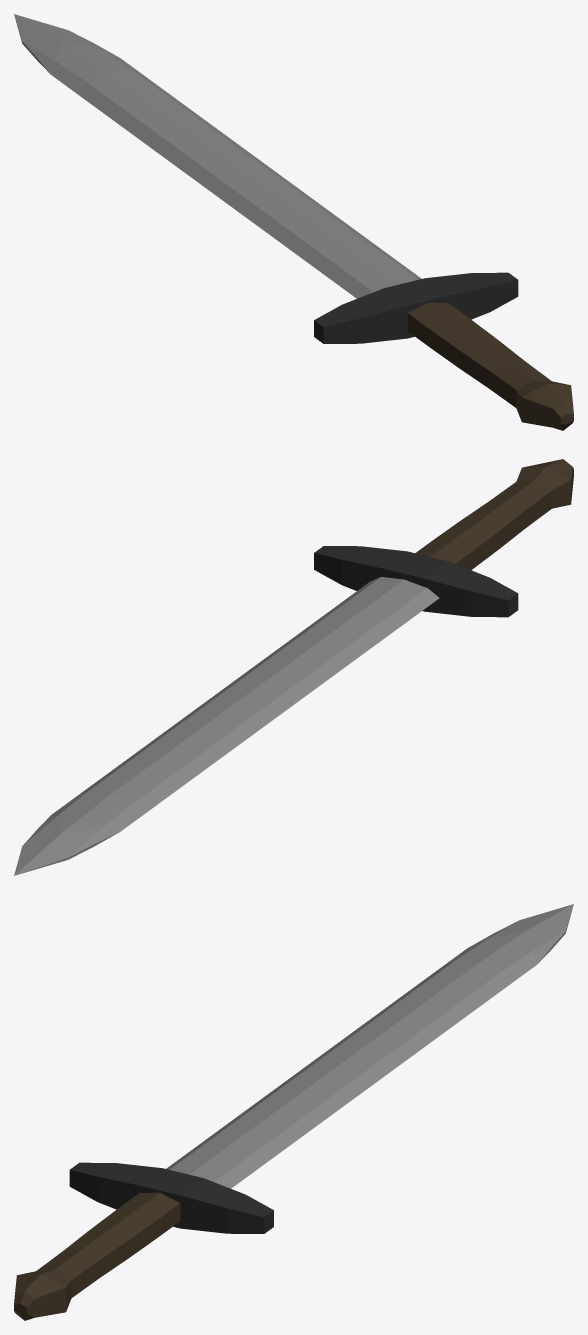
Rendered from Sword.fbx.
The picture shows the model from 3 angles, top to bottom: view 1: azimuth 30°, elevation 25°; view 2: azimuth 150°, elevation 25°; view 3: azimuth 330°, elevation 25°; orthographic projection.
Parts seen in each view (by area): view 1: Blade, Handle, Guard; view 2: Blade, Guard, Handle; view 3: Blade, Handle, Guard.
Boxes of the visible parts, <box> form: Blade: <box>14,14,421,298</box>; Handle: <box>407,302,573,430</box>; Guard: <box>314,272,518,343</box>; Blade: <box>14,577,439,875</box>; Guard: <box>314,546,518,617</box>; Handle: <box>415,459,573,570</box>; Blade: <box>166,904,573,1188</box>; Handle: <box>14,1192,180,1320</box>; Guard: <box>69,1162,273,1233</box>.
Bounding box in the file's own units: 94.91 × 18.61 × 468.
